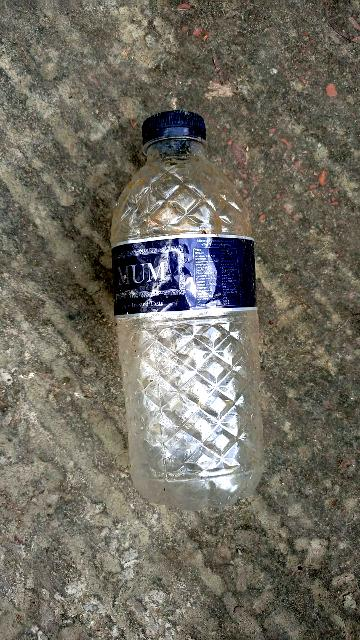bottle: (101, 100, 272, 531)
